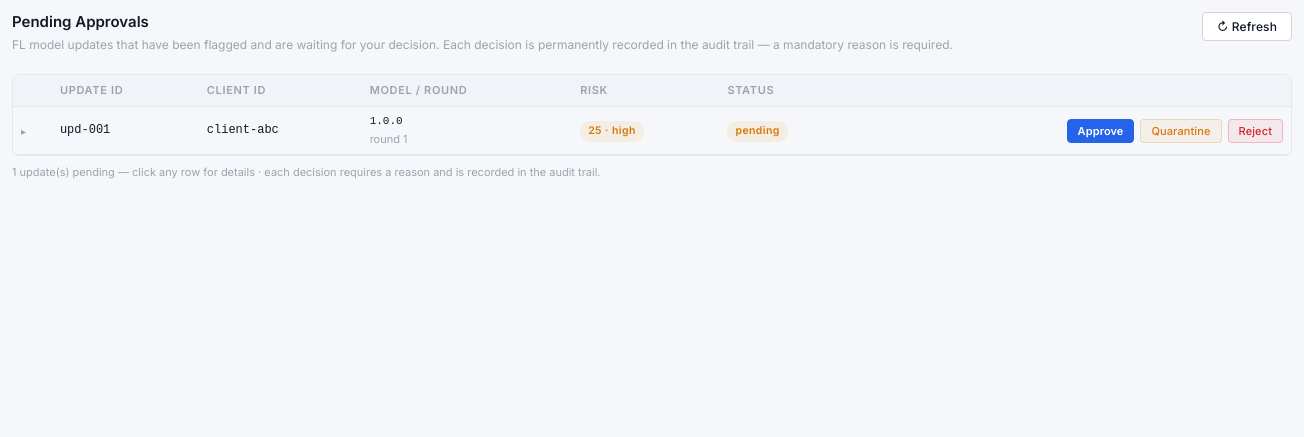
Approvals › submits quarantine with reason and shows success
Click the button "Quarantine": (1181, 131) top-left (1140, 119), bottom-right (1222, 143)
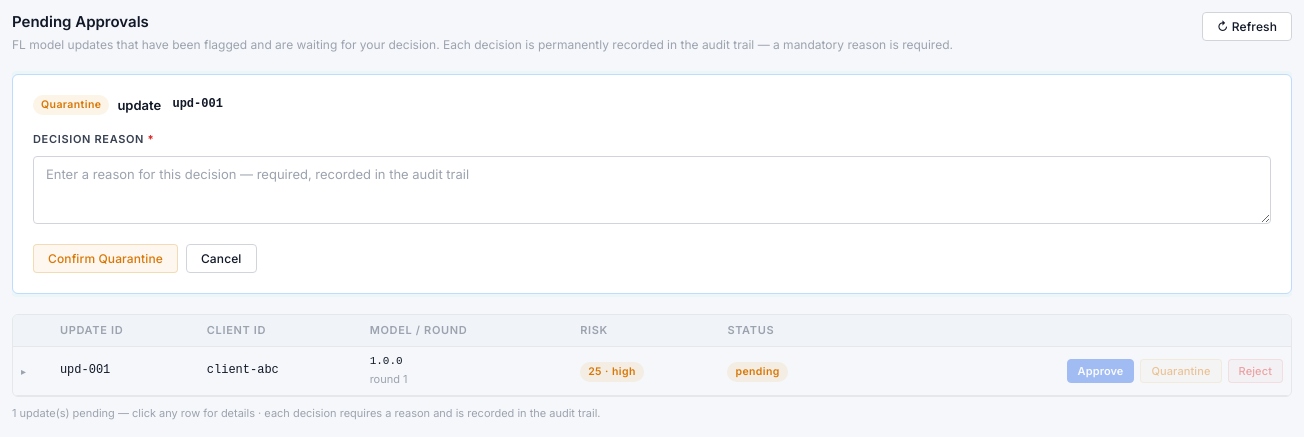
In the text box labelled "Decision Reason *": (652, 190) top-left (33, 156), bottom-right (1271, 224), type "Suspected model poisoning"
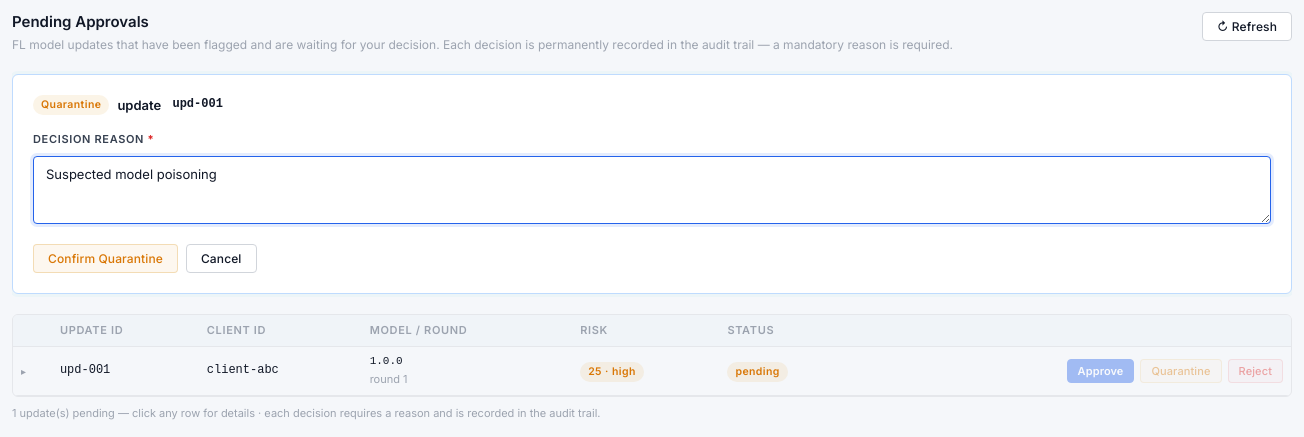
Click the button "Confirm Quarantine": (106, 258) top-left (33, 244), bottom-right (178, 273)
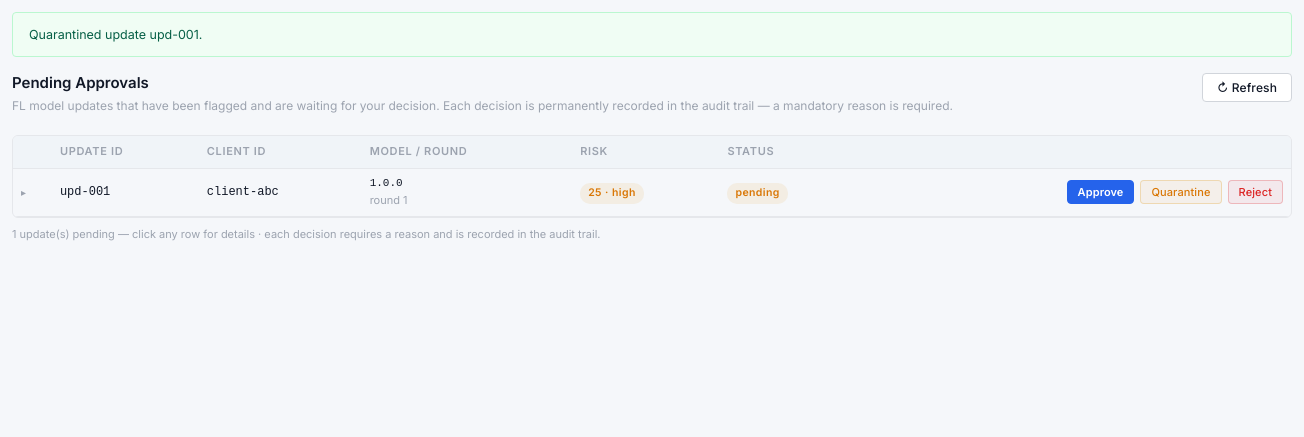
Expected: the text "Quarantined update upd-001." is shown, top-left (12, 12), bottom-right (1292, 57)
